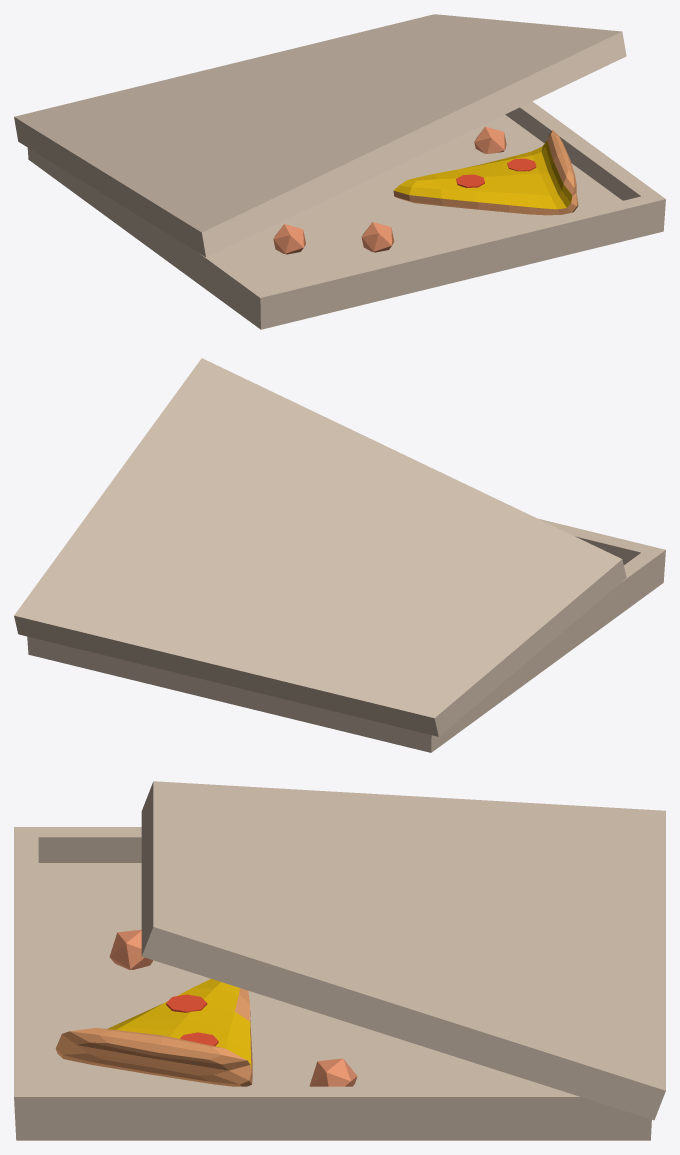
File: pizzaBoxTrash.fbx
3 renders of one model, top to bottom at view 1: azimuth 30°, elevation 25°; view 2: azimuth 150°, elevation 25°; view 3: azimuth 270°, elevation 25°, orthographic. The views are drawn at different scales.
Visible parts, largest first — view 1: PizzaBox; view 2: PizzaBox; view 3: PizzaBox.
Part boxes in pixels (box(x1,y1,x2,y2)): PizzaBox: box(14, 14, 665, 329); PizzaBox: box(14, 358, 665, 752); PizzaBox: box(14, 781, 665, 1140).
Bounding box in the file's own units: 130 × 47.68 × 128.
